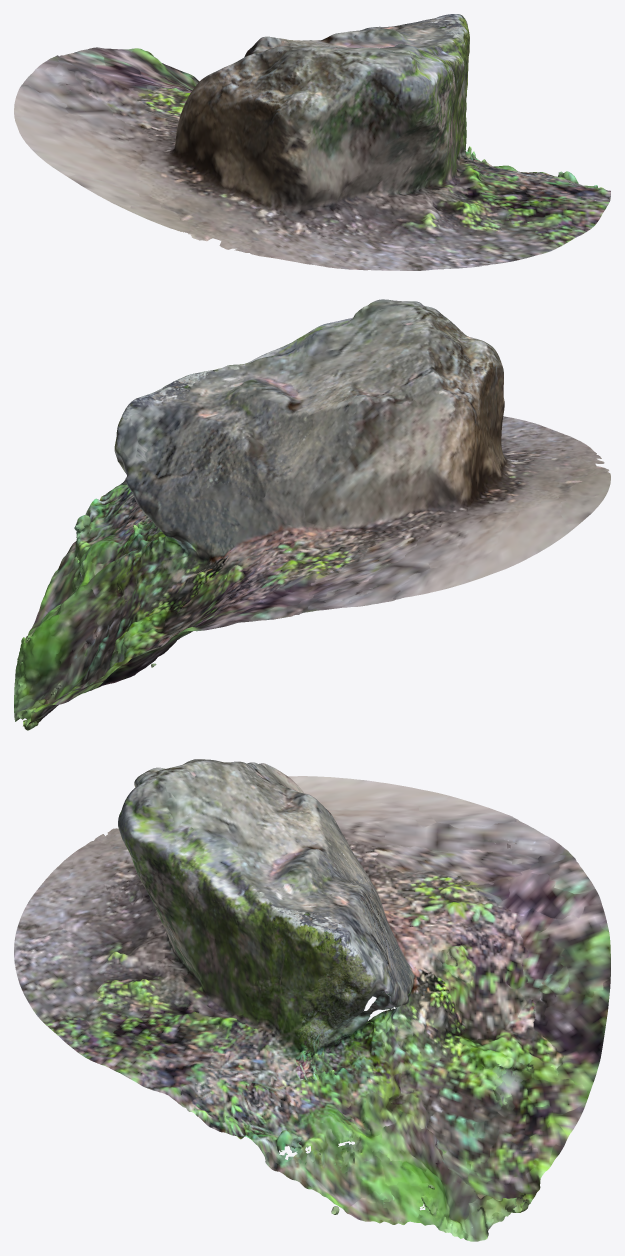
The picture shows the model from 3 angles, top to bottom: view 1: azimuth 30°, elevation 25°; view 2: azimuth 150°, elevation 25°; view 3: azimuth 270°, elevation 25°; orthographic projection.
Visible parts, largest first — view 1: Object_2; view 2: Object_2; view 3: Object_2.
Boxes of the visible parts, x1,y1,x2,y2 form: Object_2: (14,14,610,270); Object_2: (14,299,610,730); Object_2: (14,759,610,1241).
Size of the model in its own units: 0.9863 by 0.6471 by 1.
Materials: 1 (1 with a texture image).
